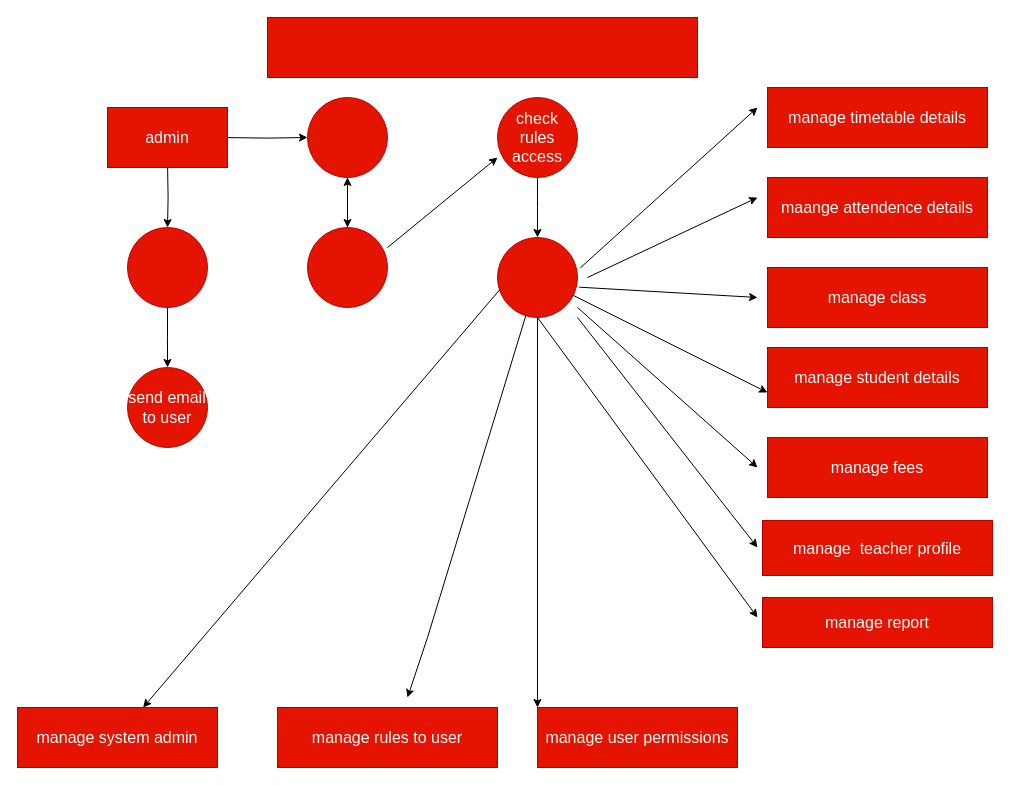
This 1010x785 diagram has some shape labels left out. Here are the shapes that lost their labels. From the top down, the centre of each, then its label:
the point at 482,47: student information system
the point at 347,137: login to system
the point at 167,267: forgot password
the point at 347,267: check credentials
the point at 537,277: manage modules
